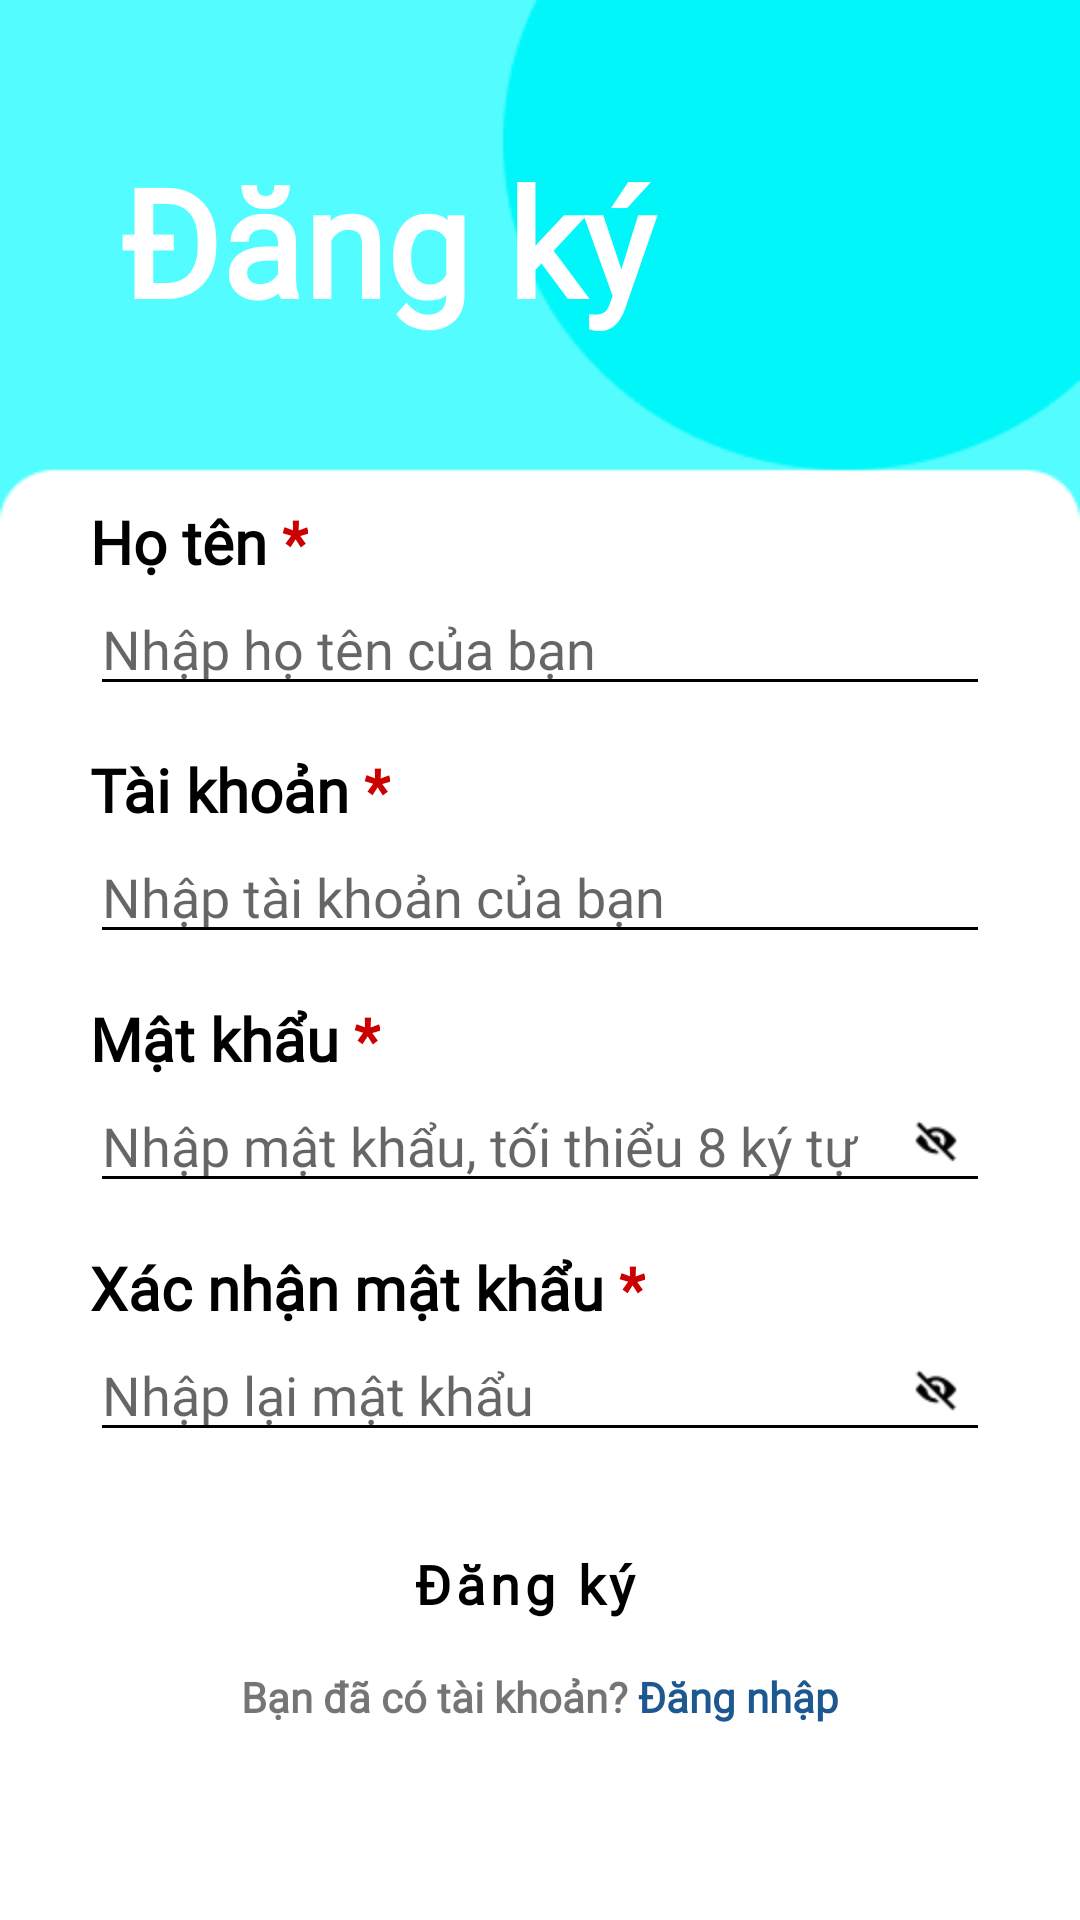

Screen size 1080x1920. Icon name, then its center in pixels as (x,y):
eye blind: (936,1141), (936,1391)
